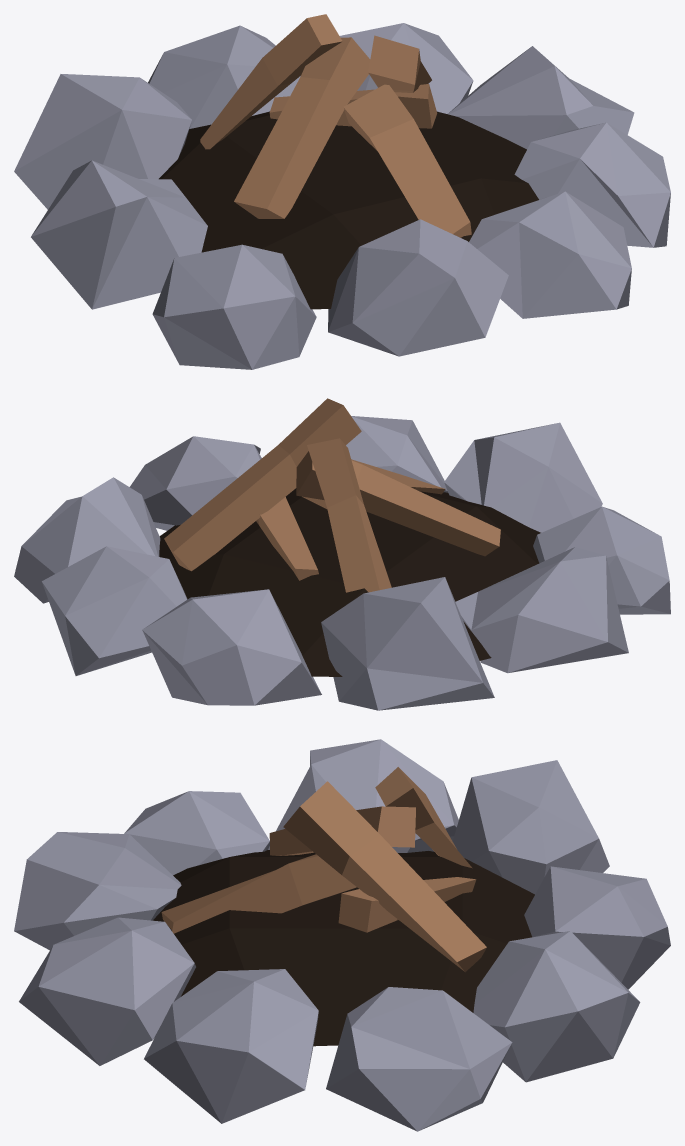
The model's file is fireplace.fbx.
3 views of the same model, one above another, from view 1: azimuth 30°, elevation 25°; view 2: azimuth 150°, elevation 25°; view 3: azimuth 270°, elevation 25° (orthographic). The views are drawn at different scales.
Parts seen in each view (by area): view 1: Fireplace; view 2: Fireplace; view 3: Fireplace.
Boxes of the visible parts, left/top/right/bottom form: Fireplace: left=14, top=14, right=670, bottom=369; Fireplace: left=14, top=398, right=670, bottom=710; Fireplace: left=14, top=739, right=670, bottom=1131.
Size of the model in its own units: 1.16 by 0.4274 by 1.12.
